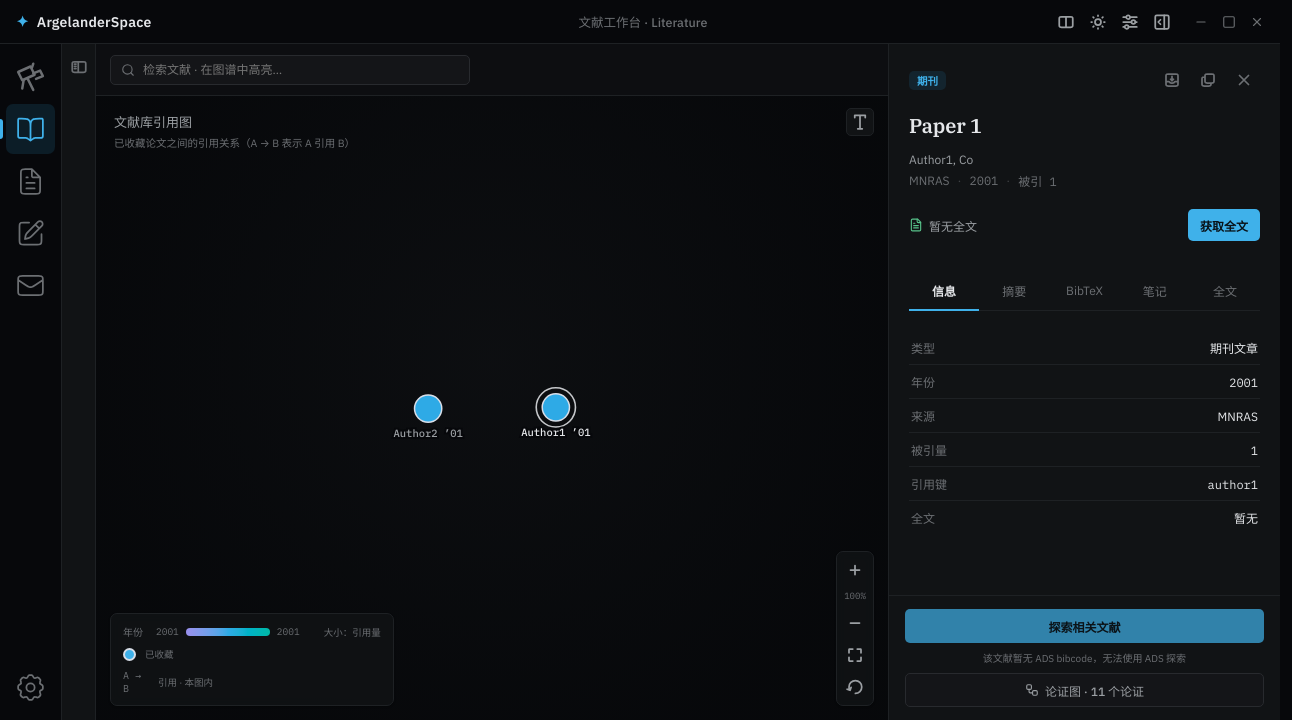
Test: the page the view publishes › is a valid, complete context carrying the Work, the whole graph and the audit; the Library page is replaced
This screenshot has width=1292, height=720.
What coordinates should you click on to do the following:
click the button "论证图 · 11 个论证"
I would click on:
 (1084, 690)
Its box is [905,673,1264,707].
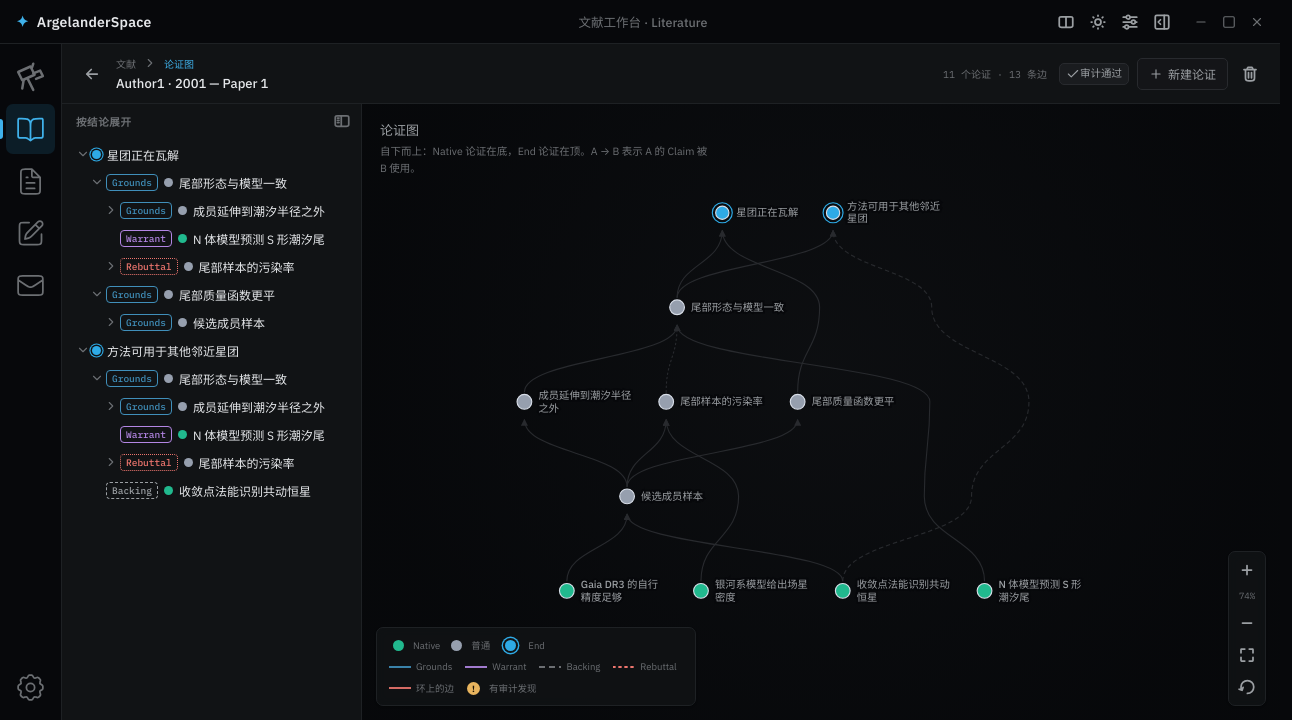
Expected: the element that starts with "论证图" is shown
